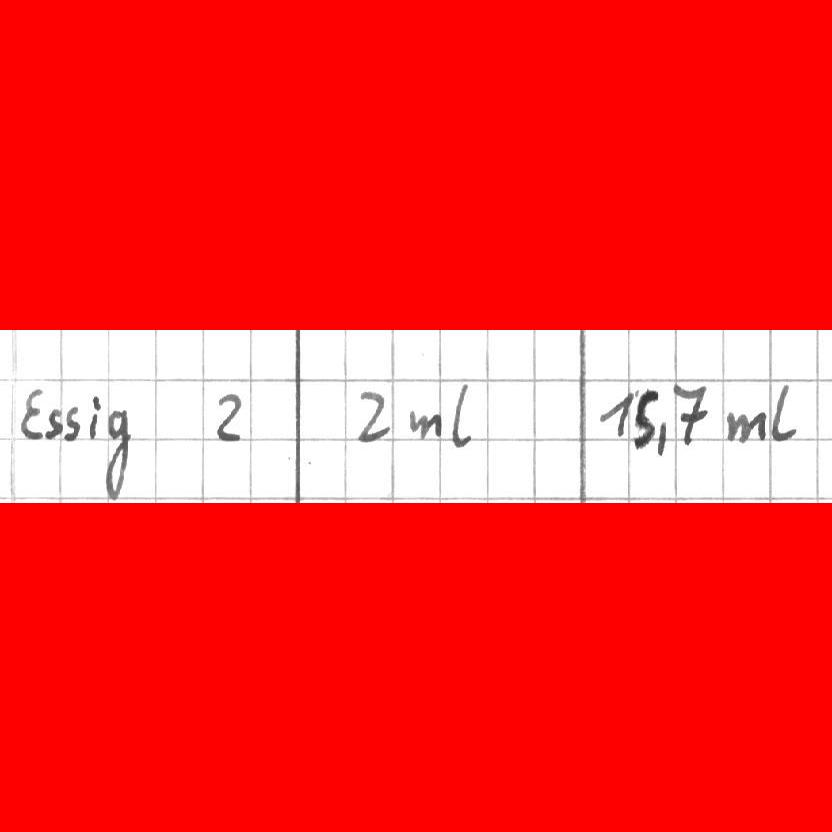Char: (102, 404, 131, 501), (673, 380, 709, 445), (353, 386, 393, 442), (211, 390, 247, 446), (769, 384, 800, 442), (598, 389, 634, 438), (448, 380, 475, 445), (632, 388, 659, 449), (725, 406, 764, 445), (19, 387, 46, 440), (407, 406, 440, 441), (87, 391, 101, 442), (47, 406, 65, 440), (65, 404, 81, 441), (655, 418, 670, 457)
